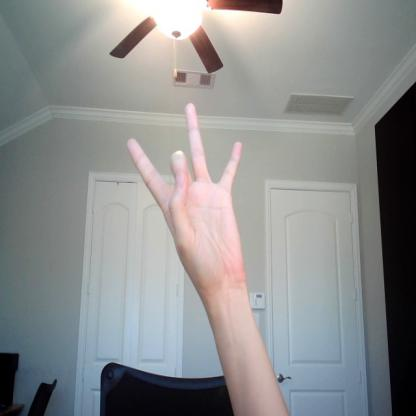eight: (125, 102, 252, 276)
